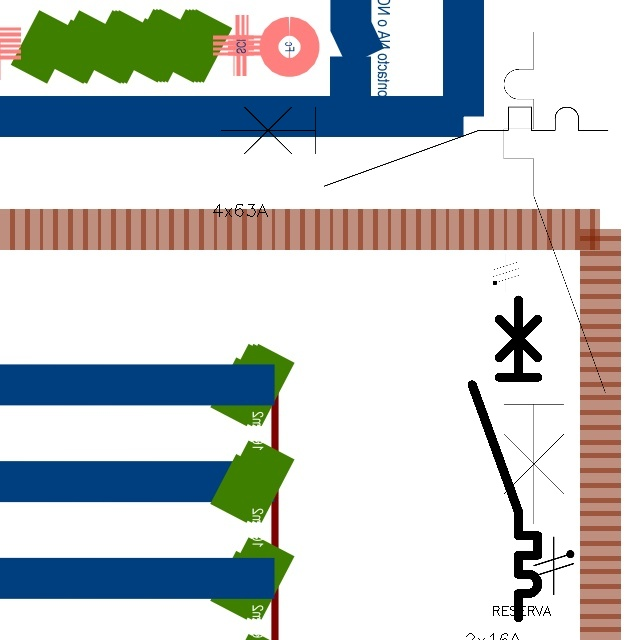interruptor_termomagnetico: (491, 19, 617, 536), (211, 97, 618, 196), (464, 291, 546, 625)
